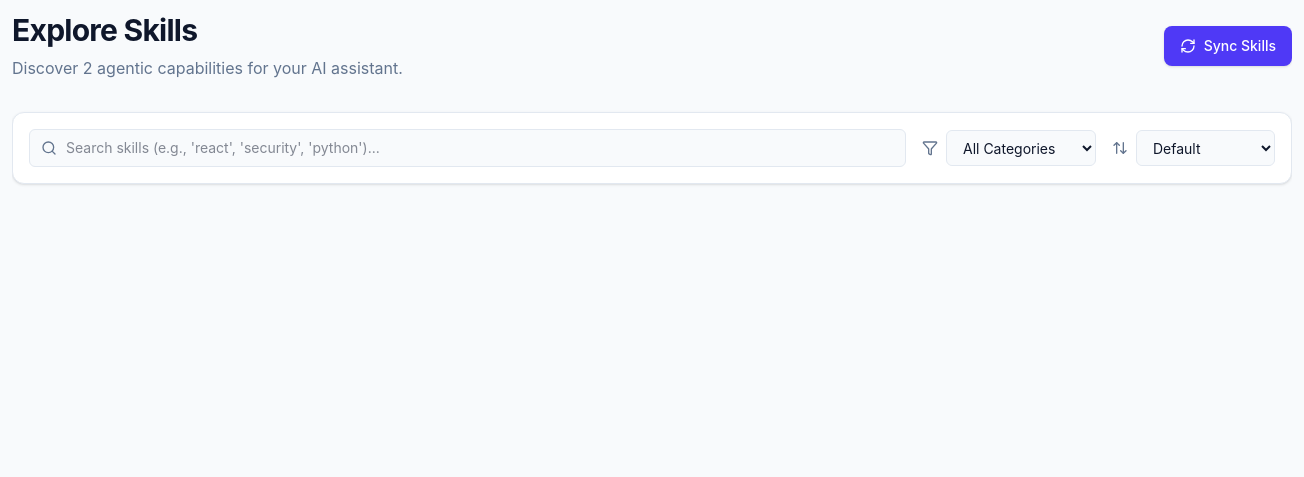
Test: Home › Search and Filtering › should filter skills by category
Select "Frontend (1)" in the dropdown named "Filter by category" at (1021, 148), box [946,130,1096,166]
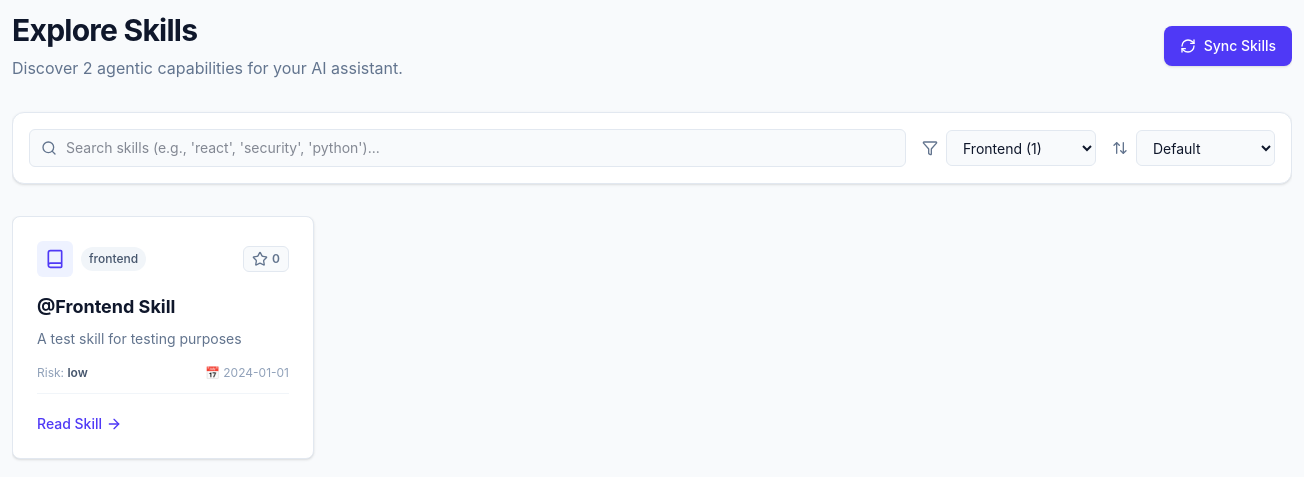
Check: the heading "@Frontend Skill" is shown, box [37,296,176,317]
